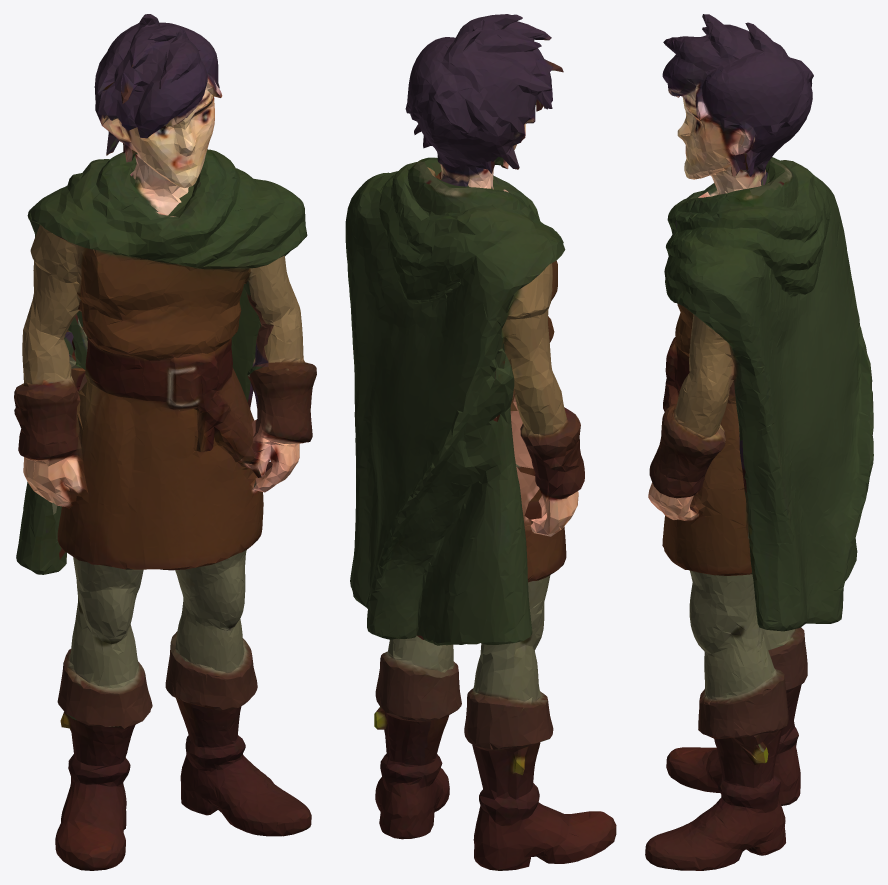
The model's file is oisin_mv_painted.glb.
The picture shows the model from 3 angles, left to right: view 1: azimuth 30°, elevation 25°; view 2: azimuth 150°, elevation 25°; view 3: azimuth 270°, elevation 25°; orthographic projection. The views are drawn at different scales.
Visible parts, largest first — view 1: geometry_0; view 2: geometry_0; view 3: geometry_0.
Boxes of the visible parts, <box> form: geometry_0: <box>14,14,316,870</box>; geometry_0: <box>345,14,616,870</box>; geometry_0: <box>645,14,873,870</box>.
Bounding box in the file's own units: 0.6519 × 1.99 × 0.5216.
1 material, 1 textured.
